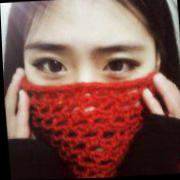WRONG: (19, 19, 161, 177)
